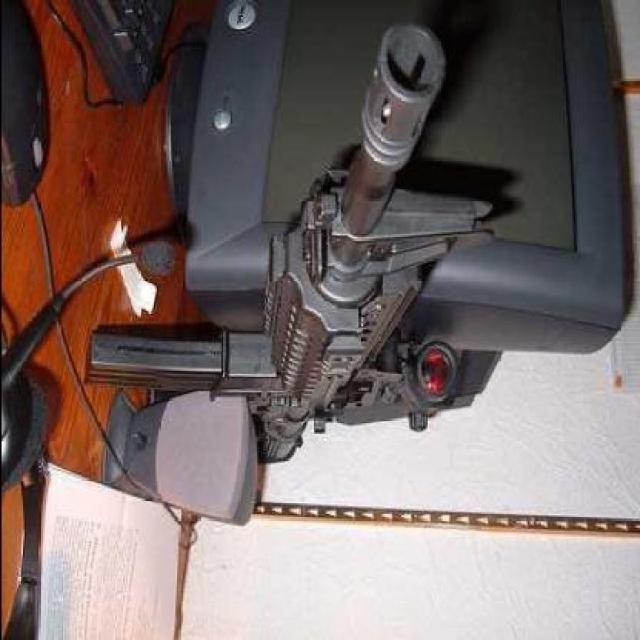Rifle: (72, 0, 536, 510)
